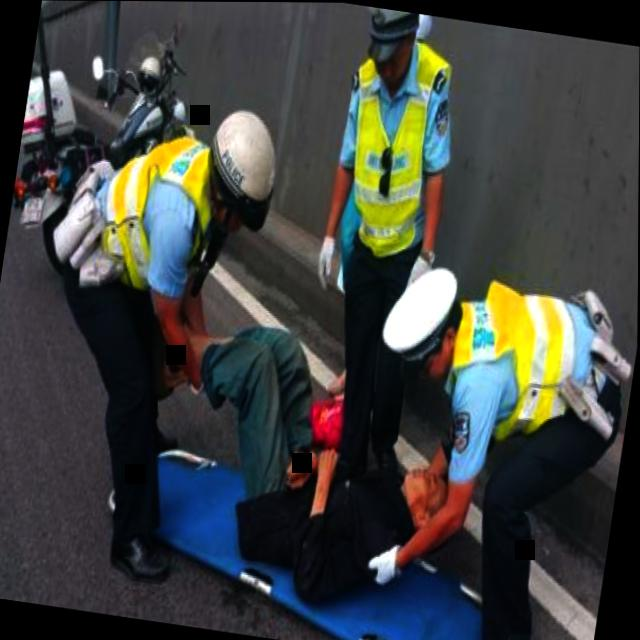Fall-Detected: (122, 283, 488, 633)
